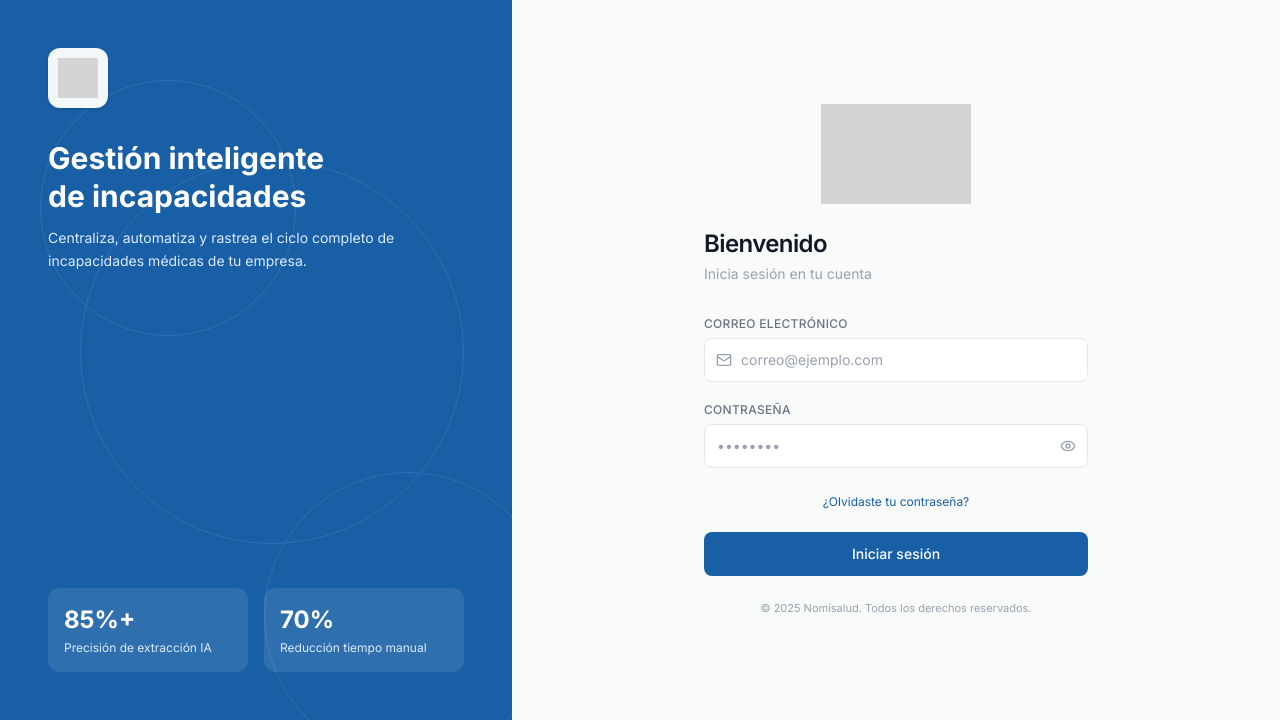
Test case: LoginForm › accesibilidad › el botón de toggle cambia su aria-label al mostrarse
Click the button named "mostrar contraseña". click: (1068, 446)
box: [1052, 430, 1084, 462]
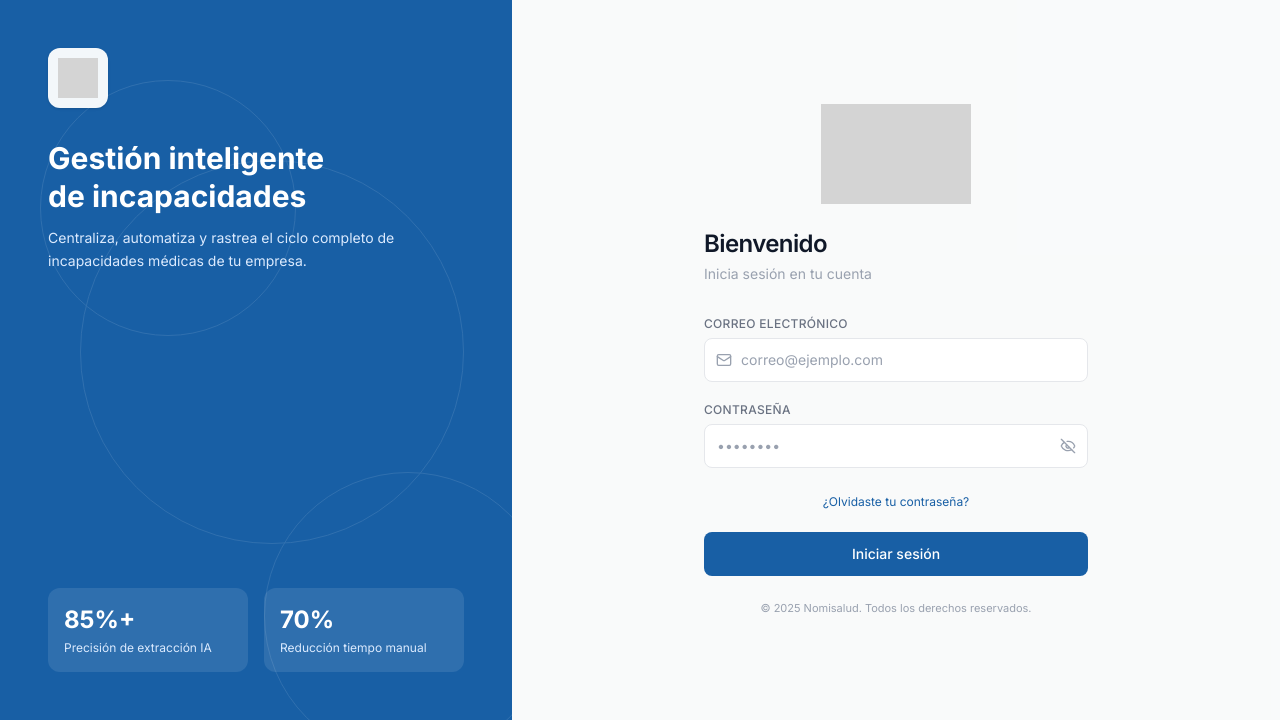
Now the button named "ocultar contraseña" is shown, box [1052, 430, 1084, 462]
